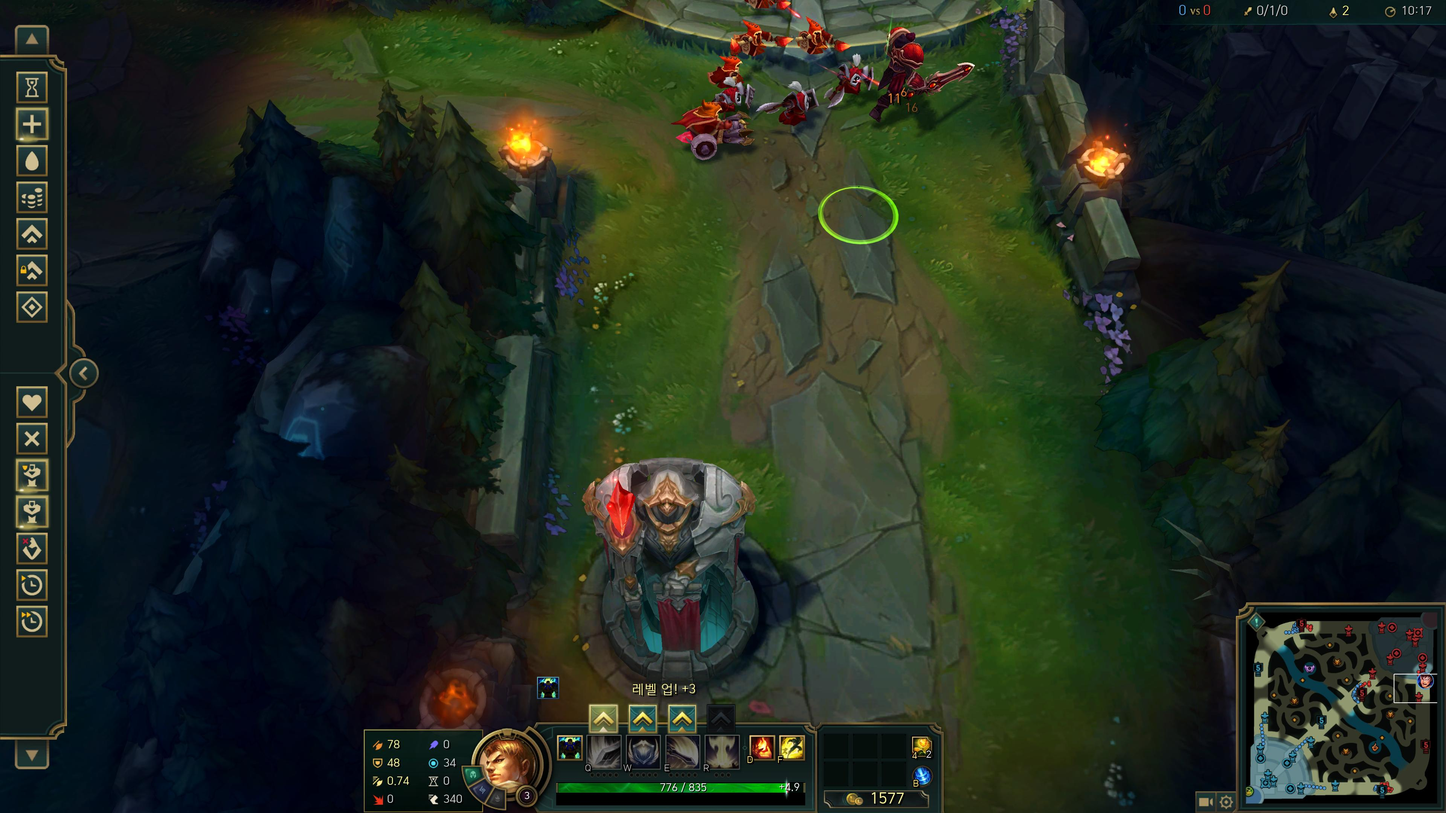enemy-caster-minion: (731, 16, 792, 54), (796, 15, 849, 53), (709, 53, 741, 84), (746, 0, 793, 9)
enemy-melee-minion: (824, 52, 880, 106), (757, 79, 819, 124), (715, 74, 755, 109)
enemy-siege-minion: (674, 99, 752, 159)
enemy-tower: (582, 457, 758, 682)
